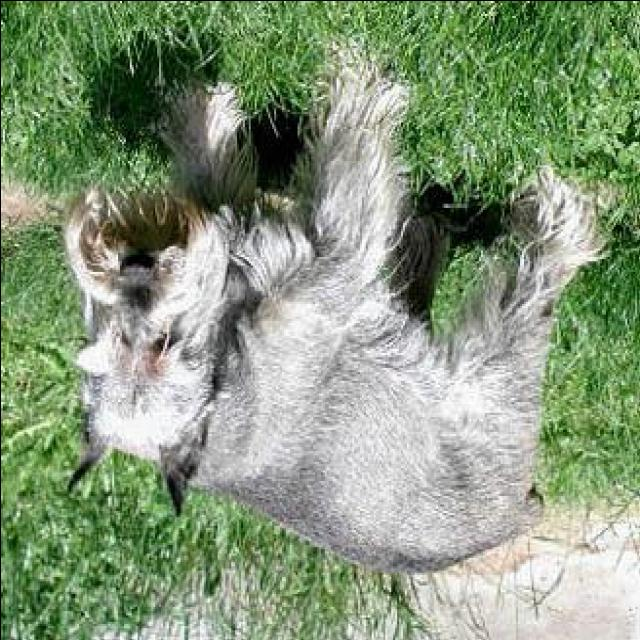standard_schnauzer: (62, 54, 610, 574)
